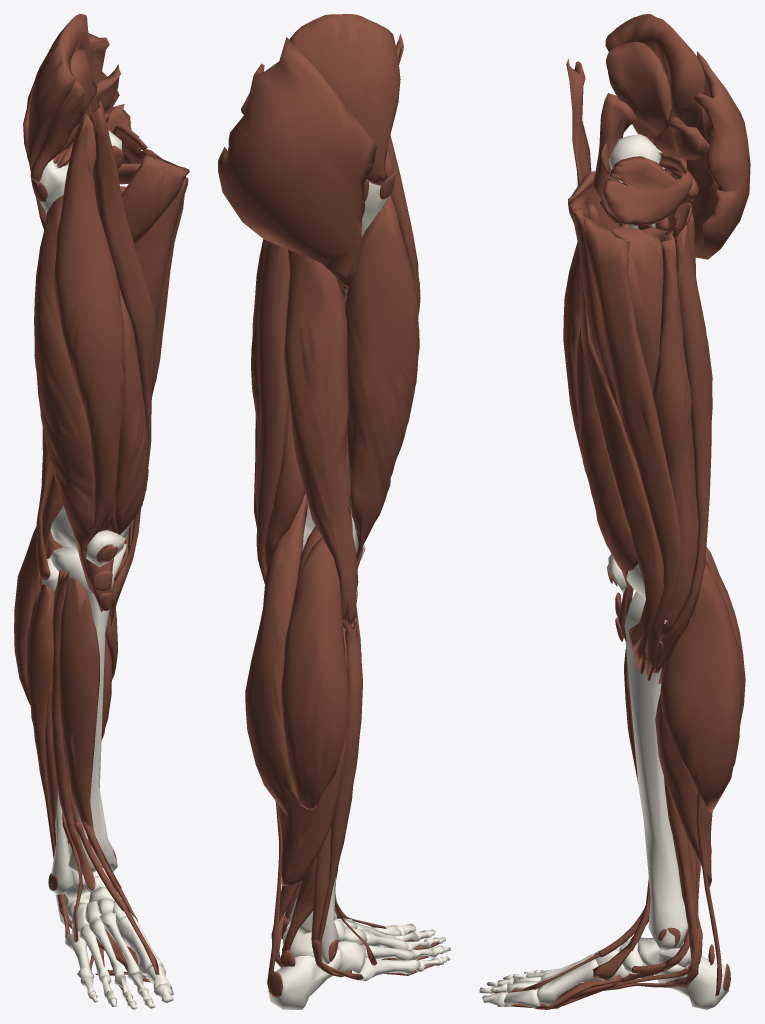
The model's file is lower_limb_right.glb.
3 views of the same model, side by side, from view 1: azimuth 30°, elevation 25°; view 2: azimuth 150°, elevation 25°; view 3: azimuth 270°, elevation 25° (orthographic). The views are drawn at different scales.
Visible parts, largest first — view 1: Rectus femoris muscle.001, Vastus lateralis muscle.003, Tibialis anterior muscle.007, Sartorius muscle.001, Vastus medialis muscle.003, Fibularis longus muscle.003, Gluteus medius muscle.005, Tibia.003, Pectineus muscle.004, Gluteus minimus muscle.003, Extensor digitorum longus.015, Adductor longus.005 (+24 smaller); view 2: Gluteus maximus muscle.005, Vastus lateralis muscle.003, Long head of biceps femoris.003, Lateral head of gastrocnemius.003, Medial head of gastrocnemius.003, Gluteus medius muscle.005, Semitendinosus muscle.001, Fibularis longus muscle.003, Soleus muscle.001, Semimembranosus muscle.001, Calcaneus.001, Rectus femoris muscle.001 (+9 smaller); view 3: Medial head of gastrocnemius.003, Gracilis muscle.005, Sartorius muscle.001, Semimembranosus muscle.001, Tibia.003, Gluteus maximus muscle.005, Semitendinosus muscle.001, Vastus medialis muscle.003, Obturator internus.003, Gluteus medius muscle.005, Rectus femoris muscle.001, Adductor magnus.005 (+15 smaller).
Part boxes in pixels (box(x1,y1,x2,y2)): Rectus femoris muscle.001: box(54, 113, 125, 612); Vastus lateralis muscle.003: box(34, 195, 95, 593); Tibialis anterior muscle.007: box(59, 577, 137, 921); Sartorius muscle.001: box(89, 100, 156, 625); Vastus medialis muscle.003: box(115, 287, 148, 534); Fibularis longus muscle.003: box(26, 578, 72, 928); Gluteus medius muscle.005: box(28, 14, 91, 172); Tibia.003: box(50, 543, 126, 875); Pectineus muscle.004: box(121, 154, 189, 244); Gluteus minimus muscle.003: box(30, 50, 97, 180); Extensor digitorum longus.015: box(51, 569, 83, 872); Adductor longus.005: box(134, 177, 188, 357); Gluteus maximus muscle.005: box(218, 37, 376, 287); Vastus lateralis muscle.003: box(344, 195, 419, 561); Long head of biceps femoris.003: box(284, 249, 358, 625); Lateral head of gastrocnemius.003: box(281, 537, 348, 809); Medial head of gastrocnemius.003: box(245, 494, 307, 815); Gluteus medius muscle.005: box(289, 14, 400, 185); Semitendinosus muscle.001: box(256, 241, 289, 583); Fibularis longus muscle.003: box(315, 621, 362, 977); Soleus muscle.001: box(278, 627, 347, 885); Semimembranosus muscle.001: box(251, 239, 304, 569); Calcaneus.001: box(268, 948, 342, 1009); Rectus femoris muscle.001: box(357, 135, 420, 568); Medial head of gastrocnemius.003: box(660, 563, 742, 812); Gracilis muscle.005: box(583, 214, 681, 680); Sartorius muscle.001: box(566, 58, 664, 674); Semimembranosus muscle.001: box(652, 230, 698, 640); Tibia.003: box(624, 591, 690, 952); Gluteus maximus muscle.005: box(661, 51, 750, 259); Semitendinosus muscle.001: box(652, 225, 711, 673); Vastus medialis muscle.003: box(576, 224, 638, 624); Obturator internus.003: box(603, 156, 692, 225); Gluteus medius muscle.005: box(605, 14, 705, 129); Rectus femoris muscle.001: box(563, 93, 637, 641); Adductor magnus.005: box(611, 227, 665, 417).
Size of the model in its own units: 0.1567 by 0.9887 by 0.248.
